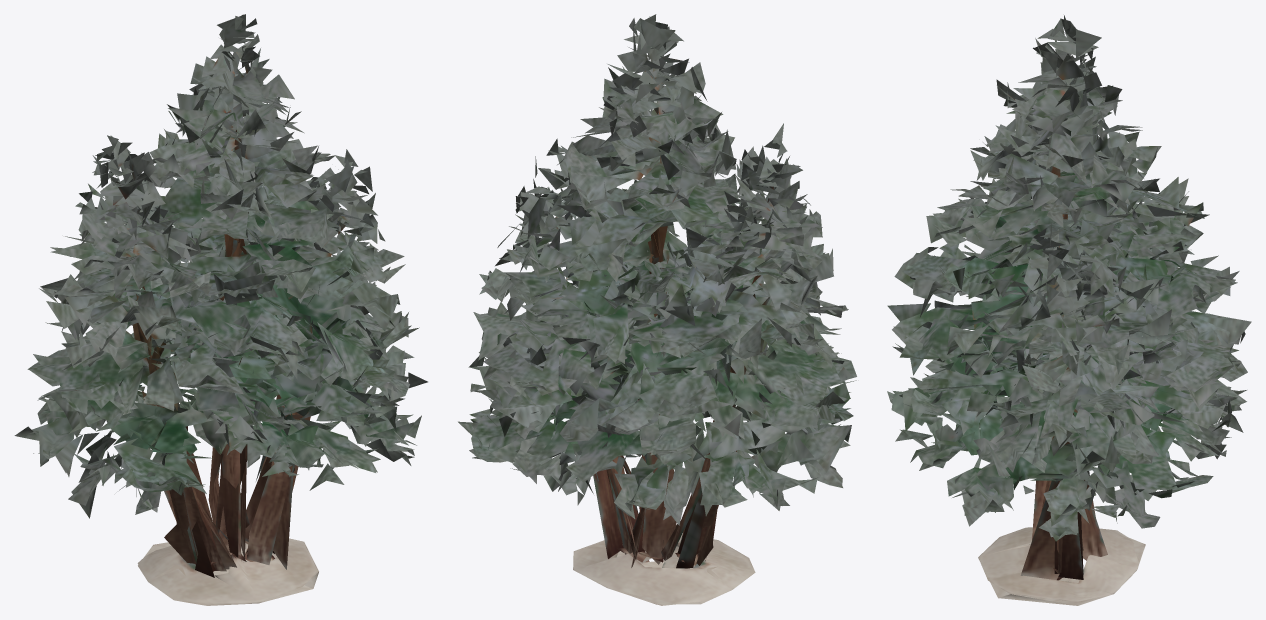
File: unified--detail--fir-grove.glb
3 views of the same model, side by side, from view 1: azimuth 30°, elevation 25°; view 2: azimuth 150°, elevation 25°; view 3: azimuth 270°, elevation 25° (orthographic).
Visible parts, largest first — view 1: fir-grove-1; view 2: fir-grove-1; view 3: fir-grove-1.
Boxes of the visible parts, <box> form: fir-grove-1: <box>14,14,427,605</box>; fir-grove-1: <box>458,14,856,605</box>; fir-grove-1: <box>887,15,1251,605</box>.
Size of the model in its own units: 1.02 by 1.52 by 0.8934.
1 material, 1 textured.
